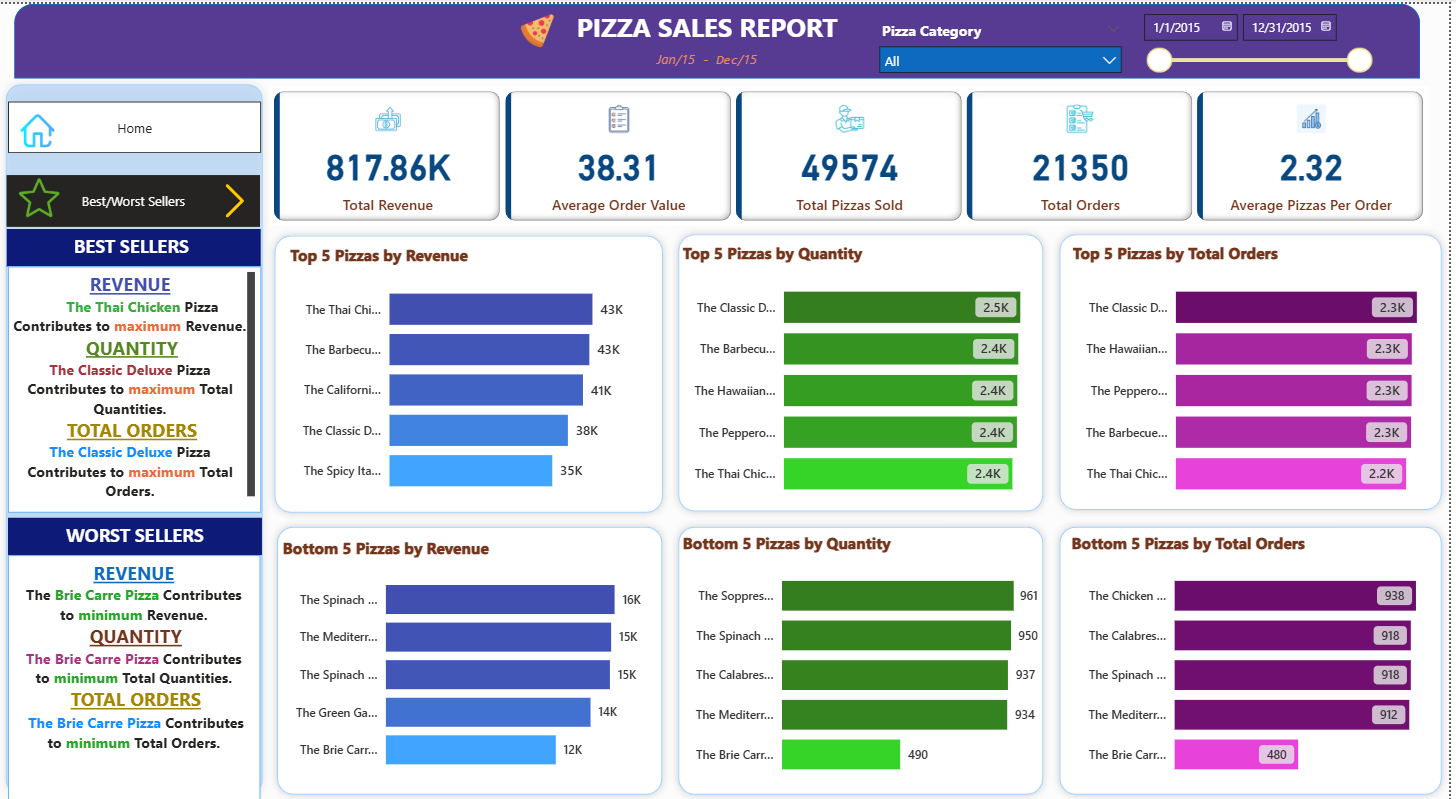

Layout of this report page (visuals, bound fields, positions):
{"tool":"powerbi","page":{"name":"Best/Worst Sellers","canvas":[1500,820],"ordinal":1},"visuals":[{"type":"cardVisual","fields":{"Data":["public pizza_sales.Total Revenue","public pizza_sales.Average Order Value","public pizza_sales.Total Pizzas Sold","public pizza_sales.Total Orders","public pizza_sales.Average Pizzas Per Order"]},"box":[289,85,1191.5,143.1],"z":0},{"type":"shape","box":[26.9,0,1443.6,76.5],"z":1000},{"type":"textbox","box":[593.4,0,291.1,54.7],"z":2000},{"type":"textbox","box":[677,41.8,123.8,37],"z":3000},{"type":"image","box":[535.5,4.8,57.9,45],"z":4000},{"type":"shape","box":[286.2,230,414.9,300.7],"z":5000},{"type":"shape","box":[9.6,74,279.8,746.1],"z":6000},{"type":"textbox","box":[19.3,231.6,260.5,38.6],"z":7000},{"type":"textbox","box":[20,270,260,252.9],"z":8000},{"type":"textbox","box":[20.9,527.4,260.5,38.6],"z":9000},{"type":"textbox","box":[20.9,566,258.9,254.1],"z":10000},{"type":"slicer","fields":{"Values":["public pizza_sales.pizza_category"]},"box":[905.3,11.3,269.2,62.3],"z":11000},{"type":"slicer","fields":{"Values":["public pizza_sales.order_date"]},"box":[1174.5,0,255,76.5],"z":12000},{"type":"shape","box":[701.1,228.3,390.8,300.7],"z":13000},{"type":"shape","box":[1091.9,228.3,408.4,299.1],"z":14000},{"type":"shape","box":[289.5,529.1,411.7,291.1],"z":15000},{"type":"shape","box":[701.1,529.1,390.8,291.1],"z":16000},{"type":"shape","box":[1091.9,529.1,408.4,291.1],"z":17000},{"type":"barChart","title":"Top 5 Pizzas by Revenue","fields":{"Category":["public pizza_sales.pizza_name"],"Y":["public pizza_sales.Total Revenue"]},"box":[305.5,246,374.7,271.8],"z":18000},{"type":"barChart","title":"Bottom 5 Pizzas by Revenue","fields":{"Category":["public pizza_sales.pizza_name"],"Y":["public pizza_sales.Total Revenue"]},"box":[297.5,546.7,390.8,255.7],"z":19000},{"type":"barChart","title":"Top 5 Pizzas by Quantity","fields":{"Category":["public pizza_sales.pizza_name"],"Y":["public pizza_sales.Total Pizzas Sold"]},"box":[709.2,244.4,382.7,278.2],"z":20000},{"type":"barChart","title":"Bottom 5 Pizzas by Quantity","fields":{"Category":["public pizza_sales.pizza_name"],"Y":["public pizza_sales.Total Pizzas Sold"]},"box":[709.2,541.9,374.7,266.9],"z":21000},{"type":"barChart","title":"Top 5 Pizzas by Total Orders","fields":{"Category":["public pizza_sales.pizza_name"],"Y":["public pizza_sales.Total Orders"]},"box":[1109.6,244.4,390.8,278.2],"z":22000},{"type":"barChart","title":"Bottom 5 Pizzas by Total Orders","fields":{"Category":["public pizza_sales.pizza_name"],"Y":["public pizza_sales.Total Orders"]},"box":[1108,541.9,390.8,266.9],"z":23000},{"type":"pageNavigator","box":[19.3,175.3,260.5,53.1],"z":24000},{"type":"pageNavigator","box":[20.9,99.7,260.5,53.1],"z":25000},{"type":"image","box":[231.6,180.1,45,45],"z":26000},{"type":"image","box":[27.3,107.7,48.2,45],"z":27000},{"type":"image","box":[27.3,173.7,51.5,51.5],"z":27001}]}

Visuals, with their boxes in screenshot pixels (x1, y1, x2, y2), scaled from the page's 1500x820 canvas onto the 1456x799 screenshot:
cardVisual - public pizza_sales.Total Revenue x public pizza_sales.Average Order Value: 281, 83, 1437, 222
shape: 26, 0, 1427, 75
textbox: 576, 0, 859, 53
textbox: 657, 41, 777, 77
image: 520, 5, 576, 49
shape: 278, 224, 681, 517
shape: 9, 72, 281, 798
textbox: 19, 226, 272, 263
textbox: 19, 263, 272, 510
textbox: 20, 514, 273, 552
textbox: 20, 552, 272, 798
slicer - public pizza_sales.pizza_category: 879, 11, 1140, 72
slicer - public pizza_sales.order_date: 1140, 0, 1388, 75
shape: 681, 222, 1060, 515
shape: 1060, 222, 1455, 514
shape: 281, 516, 681, 798
shape: 681, 516, 1060, 798
shape: 1060, 516, 1455, 798
"Top 5 Pizzas by Revenue" barChart: 297, 240, 660, 505
"Bottom 5 Pizzas by Revenue" barChart: 289, 533, 668, 782
"Top 5 Pizzas by Quantity" barChart: 688, 238, 1060, 509
"Bottom 5 Pizzas by Quantity" barChart: 688, 528, 1052, 788
"Top 5 Pizzas by Total Orders" barChart: 1077, 238, 1455, 509
"Bottom 5 Pizzas by Total Orders" barChart: 1075, 528, 1455, 788
pageNavigator: 19, 171, 272, 223
pageNavigator: 20, 97, 273, 149
image: 225, 175, 268, 219
image: 26, 105, 73, 149
image: 26, 169, 76, 219
